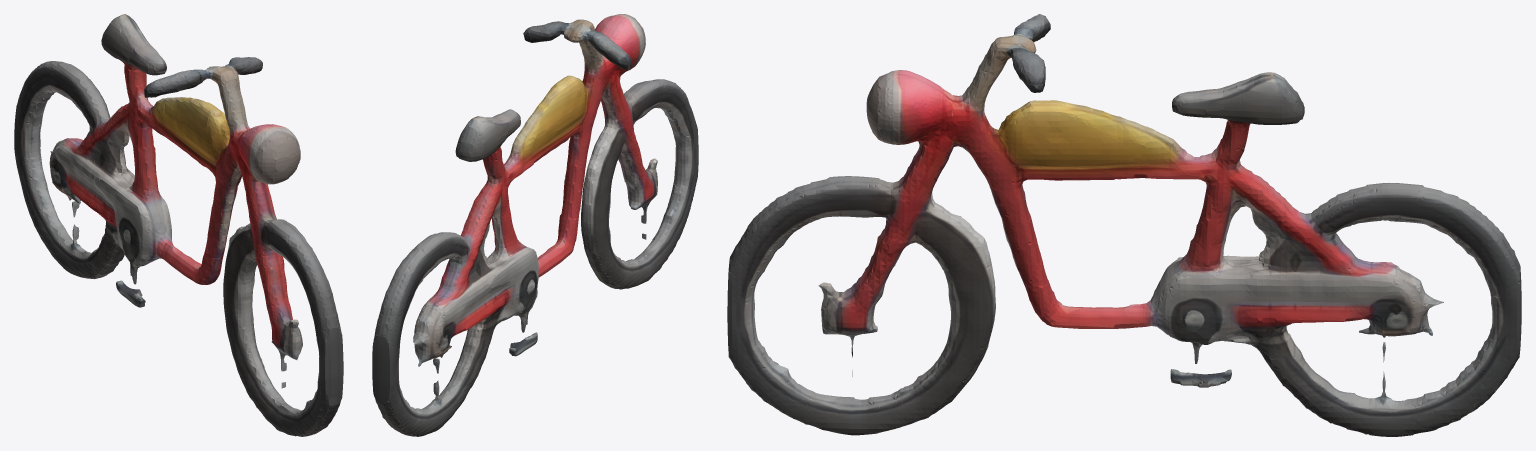
File: bike.obj
The picture shows the model from 3 angles, left to right: view 1: azimuth 30°, elevation 25°; view 2: azimuth 150°, elevation 25°; view 3: azimuth 270°, elevation 25°; orthographic projection. The views are drawn at different scales.
Visible parts, largest first — view 1: bike; view 2: bike; view 3: bike.
Part boxes in pixels (x1,y1,x2,y2): bike: [14, 14, 343, 436]; bike: [372, 14, 698, 436]; bike: [727, 14, 1521, 436].
Bounding box in the file's own units: 0.4106 × 1.08 × 1.96.
1 material, 1 textured.
